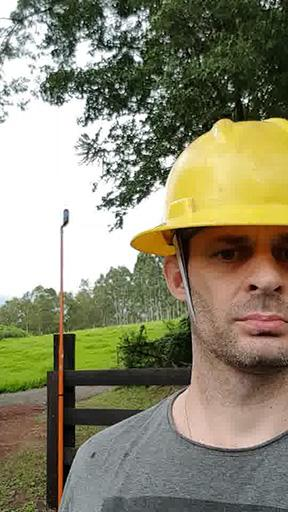Vara_Manobra: (56, 227, 66, 512)
